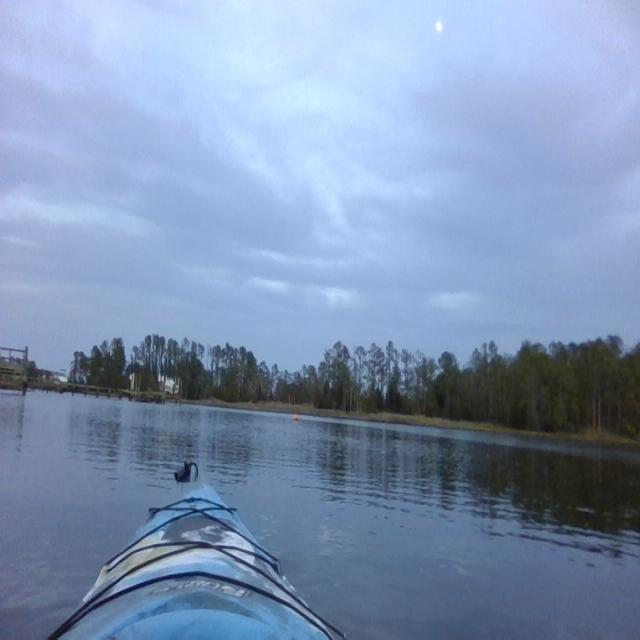Buoy: (293, 412, 299, 423)
